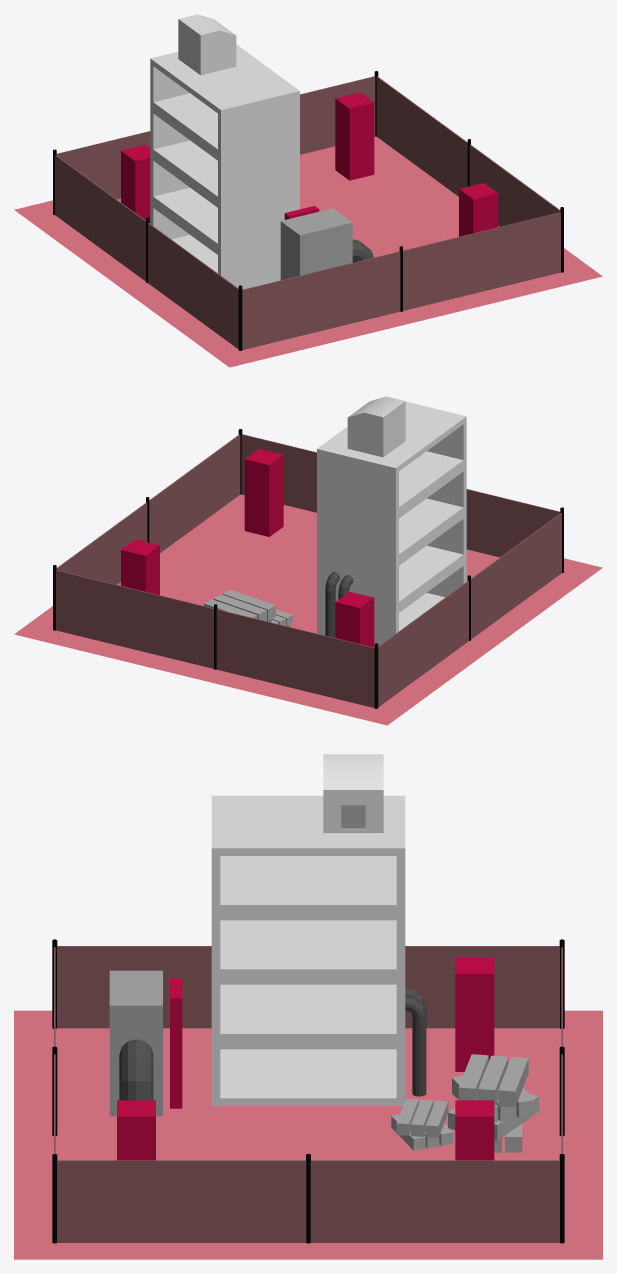
Rendered from 88_pink.fbx.
3 views of the same model, one above another, from view 1: azimuth 30°, elevation 25°; view 2: azimuth 150°, elevation 25°; view 3: azimuth 270°, elevation 25° (orthographic). The views are drawn at different scales.
Visible parts, largest first — view 1: pCube229, ght_ght4, pCube228, pCube227, pCube222, pCube217, pCube225, pCube233, pCube239, pCube226, pCube224, pCube241 (+3 smaller); view 2: pCube229, ght_ght4, pCube223, pCube224, pCube217, pCube222, pCube226, pCube228, pCube238, pCube225, pCube241, pCube227 (+5 smaller); view 3: ght_ght4, pCube229, pCube225, pCube226, pCube222, pCube217, pCube233, pCube241, pCube240, pCube239, pCube238, pCylinder44 (+5 smaller).
Part boxes in pixels (x1=…): pCube229: x1=150, y1=44, x2=299, y2=289; ght_ght4: x1=14, y1=136, x2=602, y2=367; pCube228: x1=242, y1=251, x2=400, y2=349; pCube227: x1=403, y1=212, x2=560, y2=310; pCube222: x1=55, y1=155, x2=145, y2=281; pCube217: x1=148, y1=223, x2=238, y2=349; pCube225: x1=376, y1=76, x2=467, y2=196; pCube233: x1=280, y1=208, x2=352, y2=280; pCube239: x1=335, y1=92, x2=374, y2=180; pCube226: x1=469, y1=144, x2=560, y2=226; pCube224: x1=300, y1=76, x2=375, y2=154; pCube241: x1=178, y1=14, x2=236, y2=75; pCube229: x1=317, y1=401, x2=466, y2=647; ght_ght4: x1=14, y1=494, x2=602, y2=725; pCube223: x1=216, y1=609, x2=374, y2=707; pCube224: x1=56, y1=570, x2=213, y2=668; pCube217: x1=471, y1=513, x2=561, y2=639; pCube222: x1=378, y1=581, x2=468, y2=706; pCube226: x1=149, y1=434, x2=240, y2=552; pCube228: x1=466, y1=489, x2=560, y2=557; pCube238: x1=244, y1=448, x2=283, y2=536; pCube225: x1=56, y1=502, x2=147, y2=584; pCube241: x1=347, y1=396, x2=405, y2=457; pCube227: x1=241, y1=434, x2=316, y2=512; ght_ght4: x1=14, y1=1010, x2=602, y2=1259; pCube229: x1=211, y1=795, x2=405, y2=1105; pCube225: x1=310, y1=1160, x2=559, y2=1242; pCube226: x1=57, y1=1160, x2=306, y2=1242; pCube222: x1=405, y1=946, x2=559, y2=1028; pCube217: x1=57, y1=946, x2=211, y2=1028; pCube233: x1=109, y1=970, x2=162, y2=1116; pCube241: x1=323, y1=754, x2=383, y2=832; pCube240: x1=455, y1=957, x2=494, y2=1071; pCube239: x1=455, y1=1100, x2=494, y2=1160; pCube238: x1=117, y1=1100, x2=155, y2=1160; pCylinder44: x1=119, y1=1039, x2=153, y2=1100.
Size of the model in its own units: 8 by 4.78 by 8.
